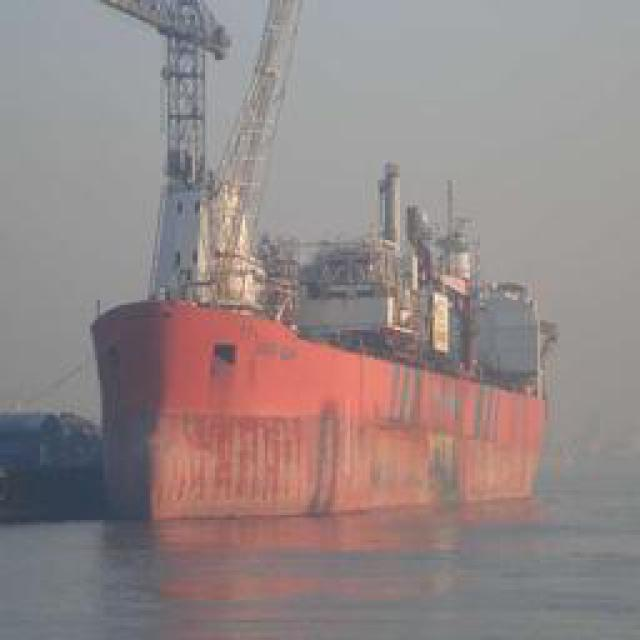Ship: (65, 94, 569, 527)
